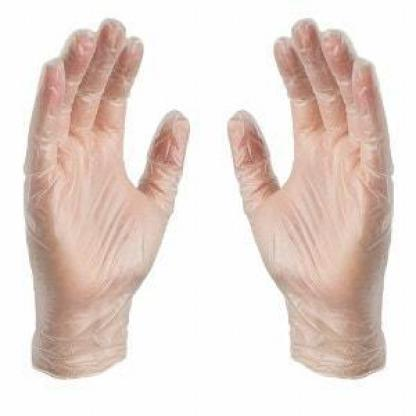with_gloves: (227, 18, 406, 391), (22, 17, 189, 389)
